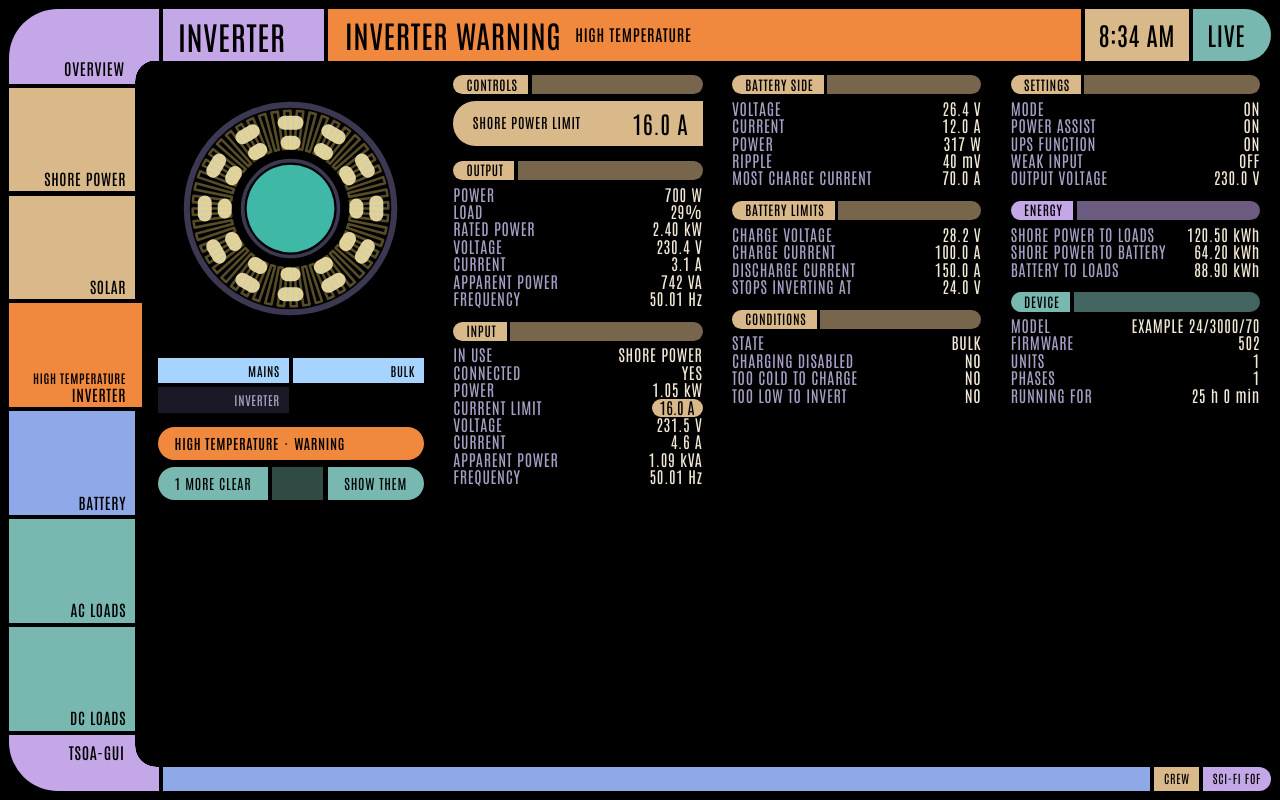
Test case: the input limit screen in Sci-Fi FOF › says when the device has not confirmed a change, or refused it
Click the button "Shore power limit 16.0 A": point(578, 123) [453,101,703,146]
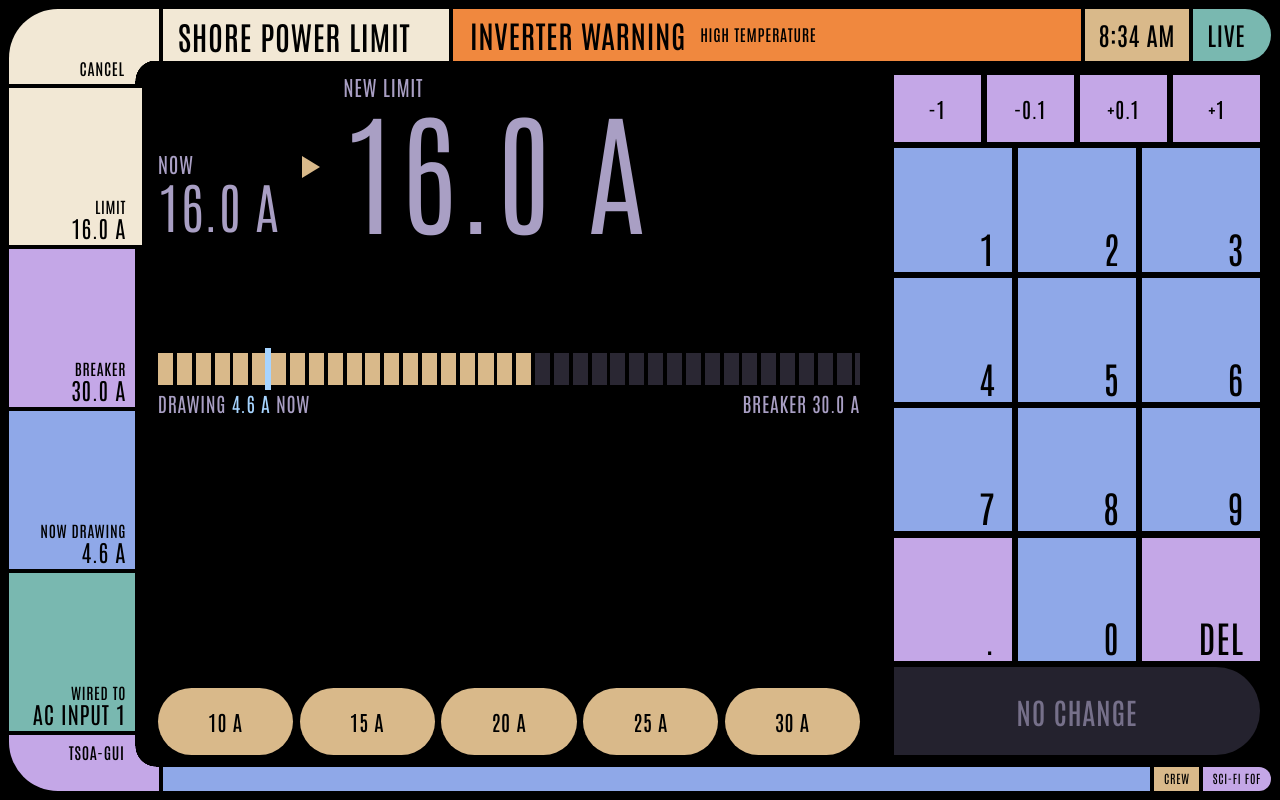
Click the button "10 A": point(226, 722) [158,688,293,755]
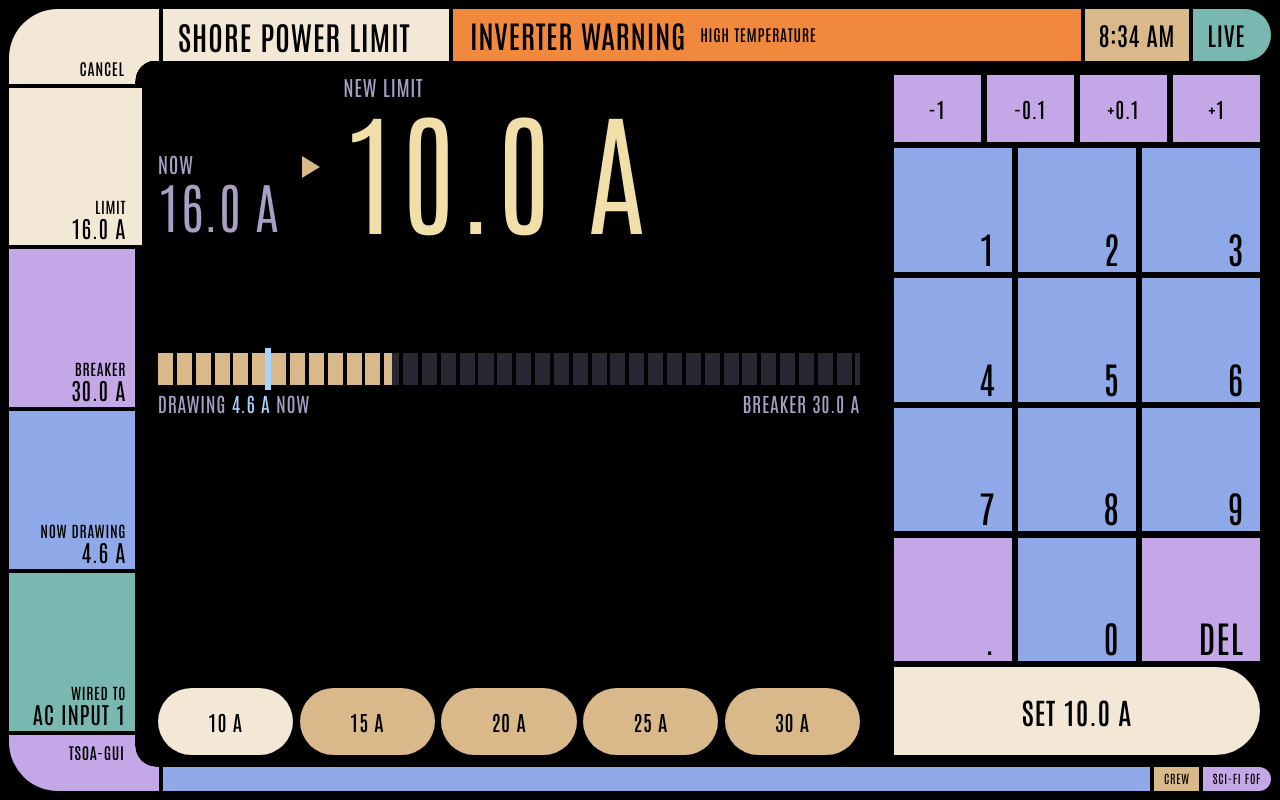
Click the button "Set 10.0 A": point(1077, 712) [894,668,1260,756]
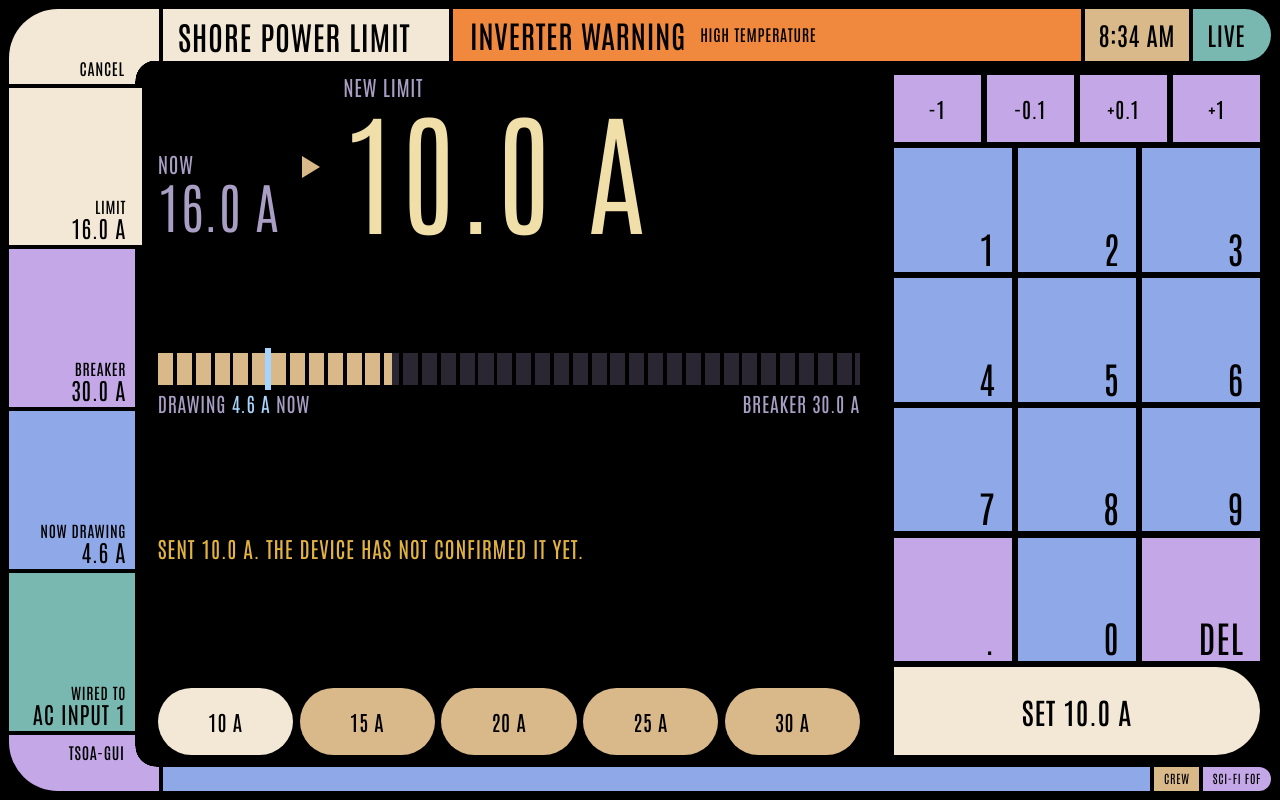
Now the text "Sent 10.0 A. The device has not confirmed it yet." is shown, box [158,534,584,562]
